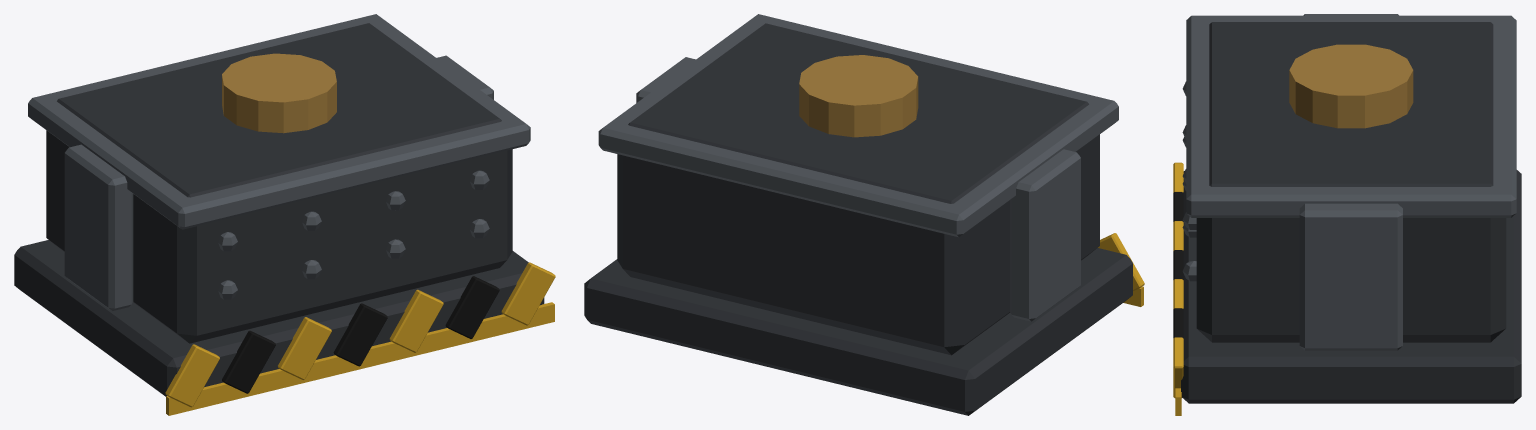
File: press_head.glb
The picture shows the model from 3 angles, left to right: view 1: azimuth 30°, elevation 25°; view 2: azimuth 150°, elevation 25°; view 3: azimuth 270°, elevation 25°; orthographic projection. The views are drawn at different scales.
Visible parts, largest first — view 1: PressHead; view 2: PressHead; view 3: PressHead.
Boxes of the visible parts, x1,y1,x2,y2 form: PressHead: (14,14,555,415); PressHead: (584,14,1144,415); PressHead: (1173,14,1521,415).
Bounding box in the file's own units: 0.9221 × 0.525 × 0.675.
